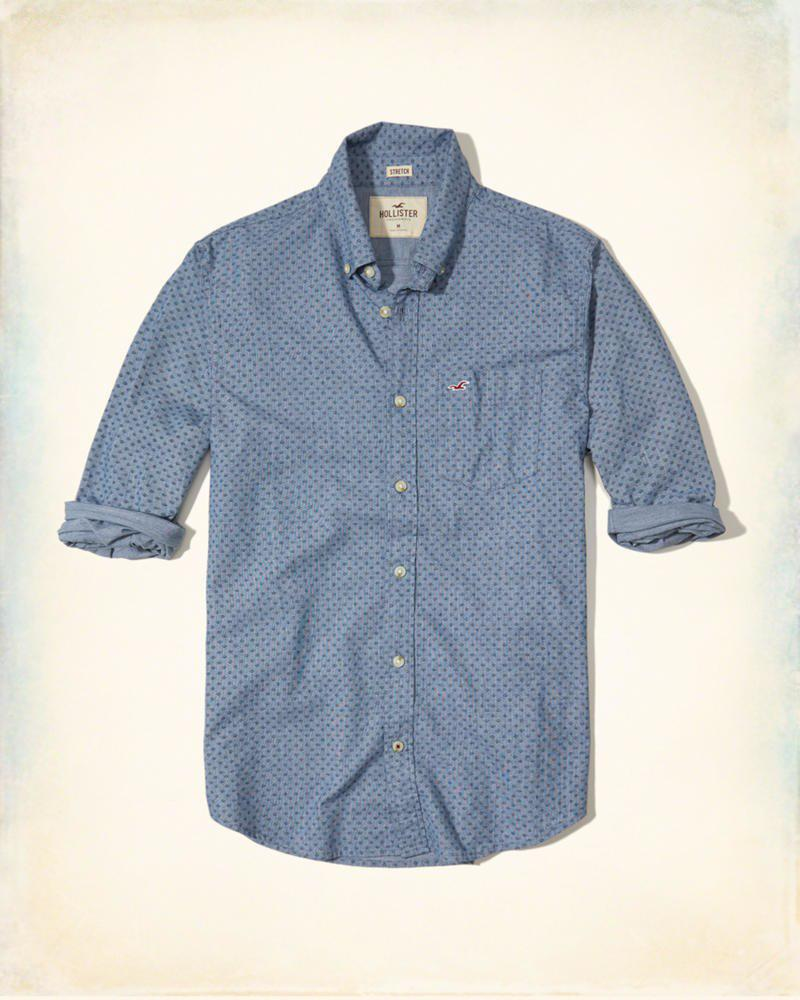teeshirt: (52, 110, 724, 878)
